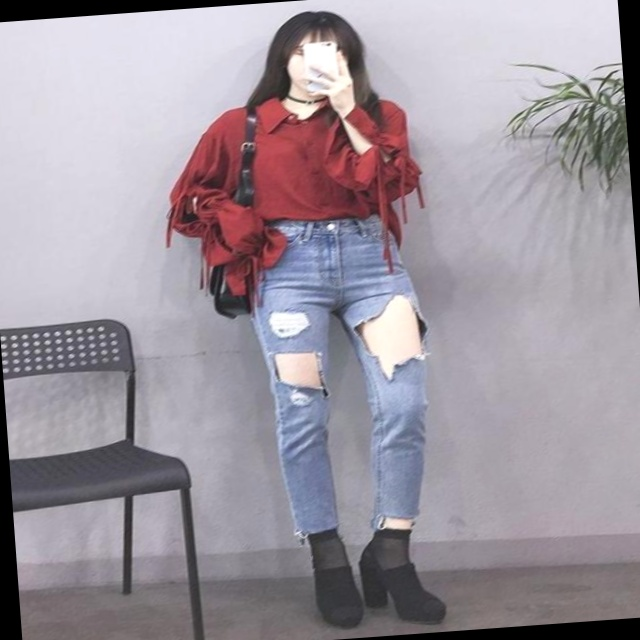ripped_pants: (249, 213, 439, 541)
